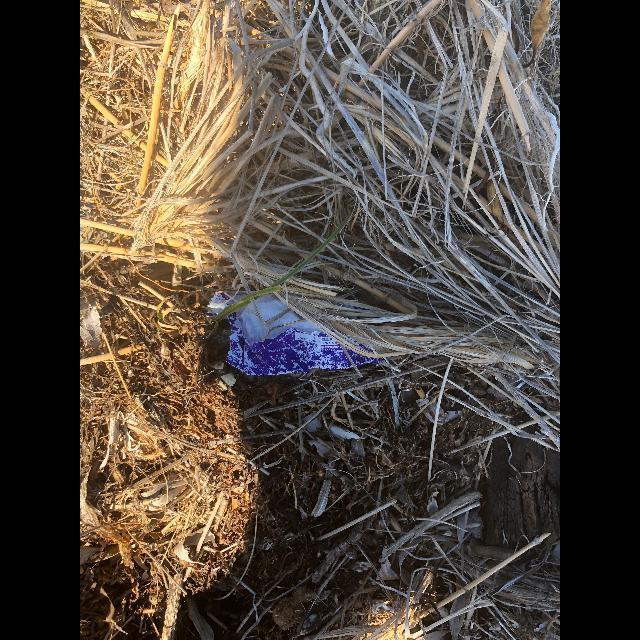Plastic: (206, 293, 382, 375)
